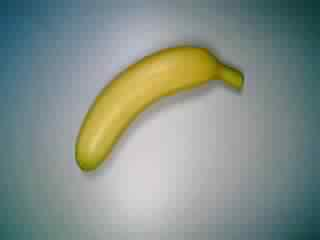banana: (74, 45, 247, 175)
